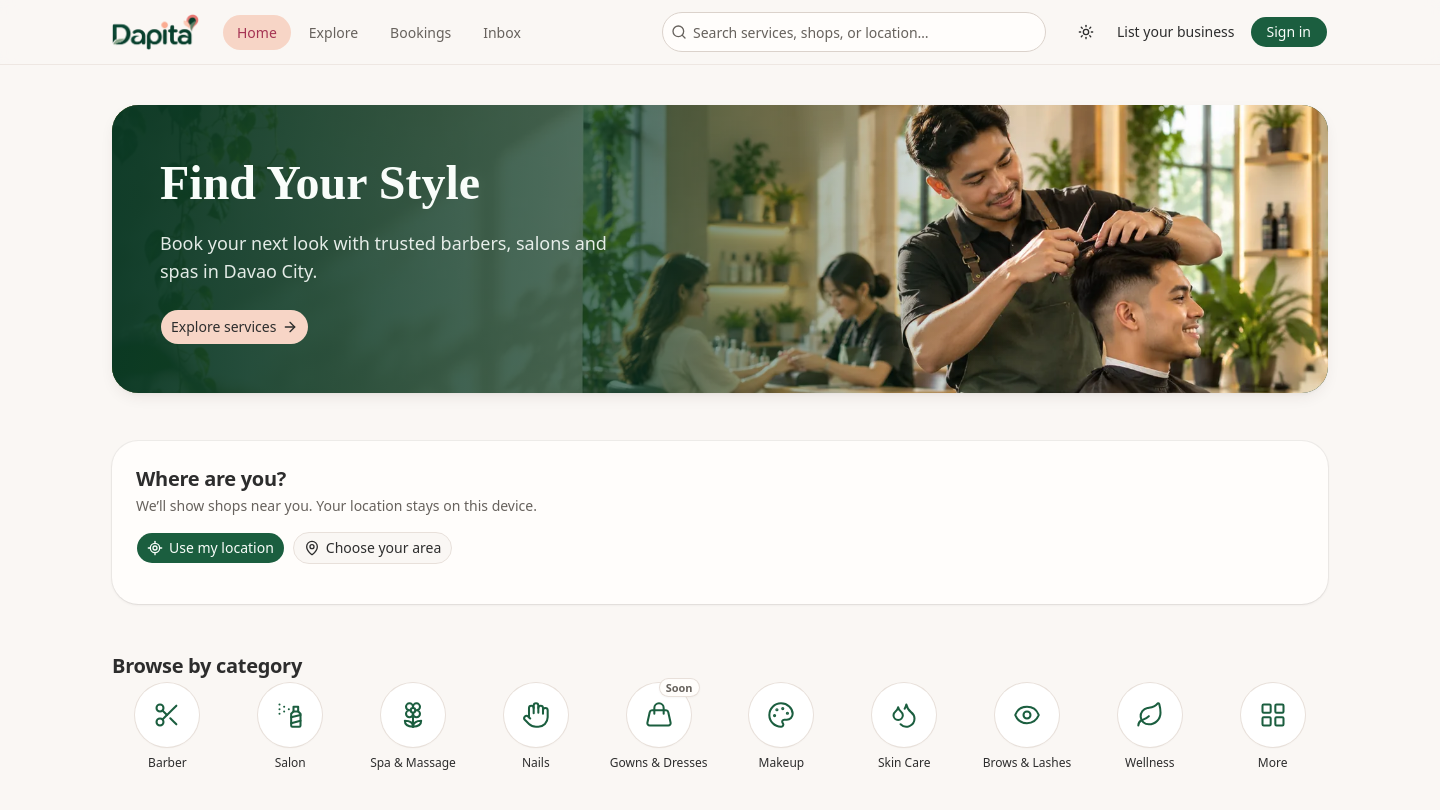
Test case: Home page, location first › Change brings the prompt back
The image size is (1440, 810).
Click the button "Choose your area". click: (373, 548)
box: [293,532,452,564]
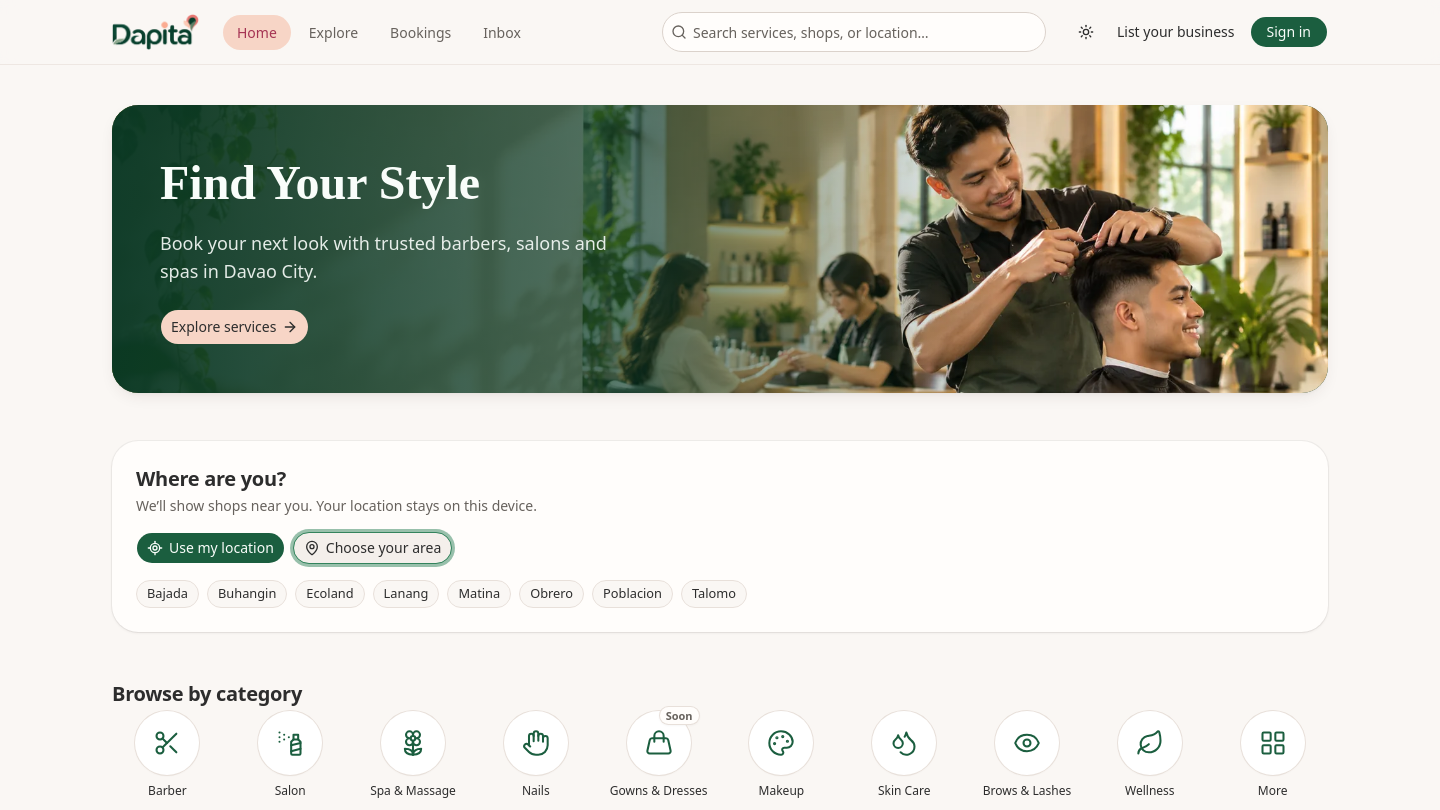
Click the button "Bajada". click: (168, 594)
box: [136,580,199,608]
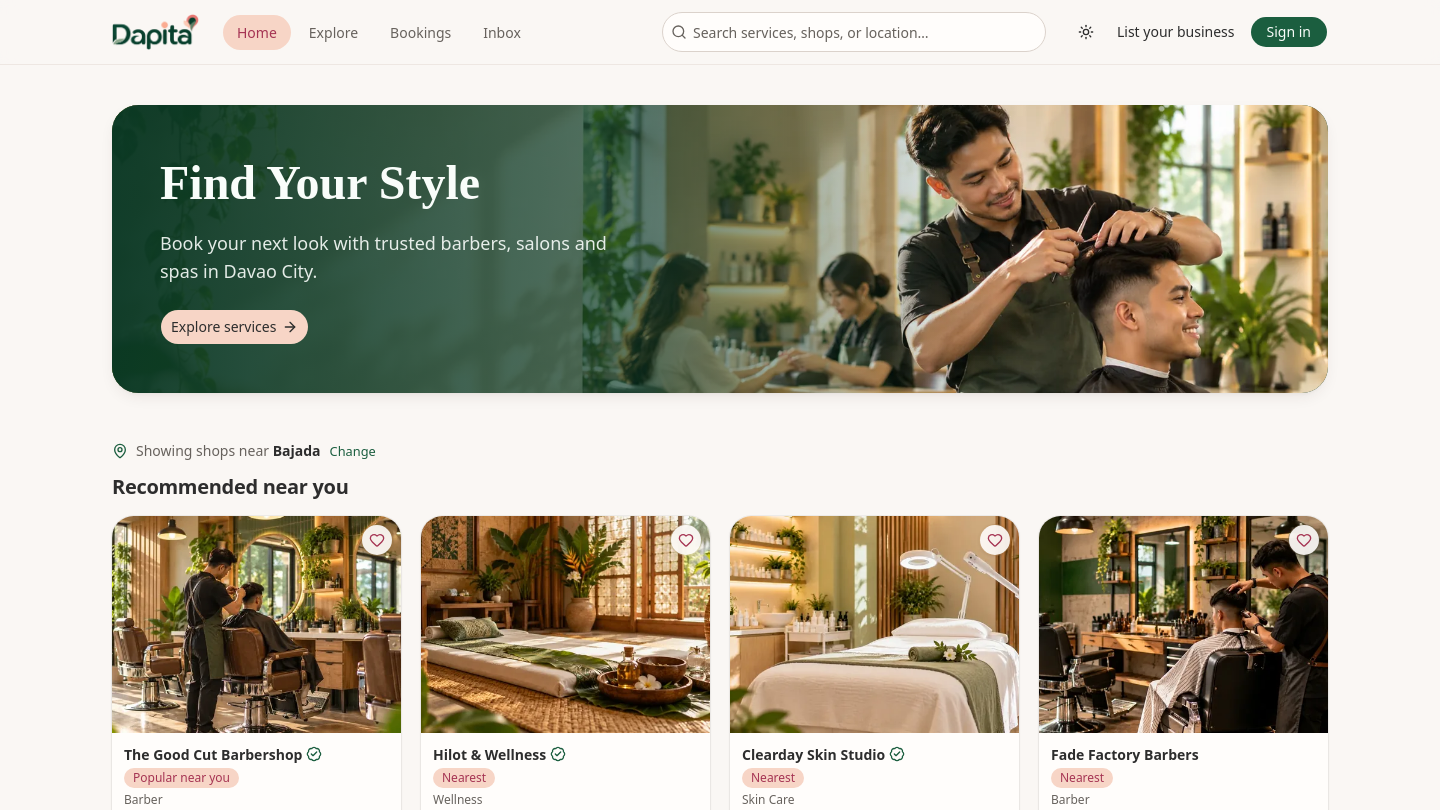
Click the button with aria-label "Change location". click: (353, 451)
box: [329,441,377,461]
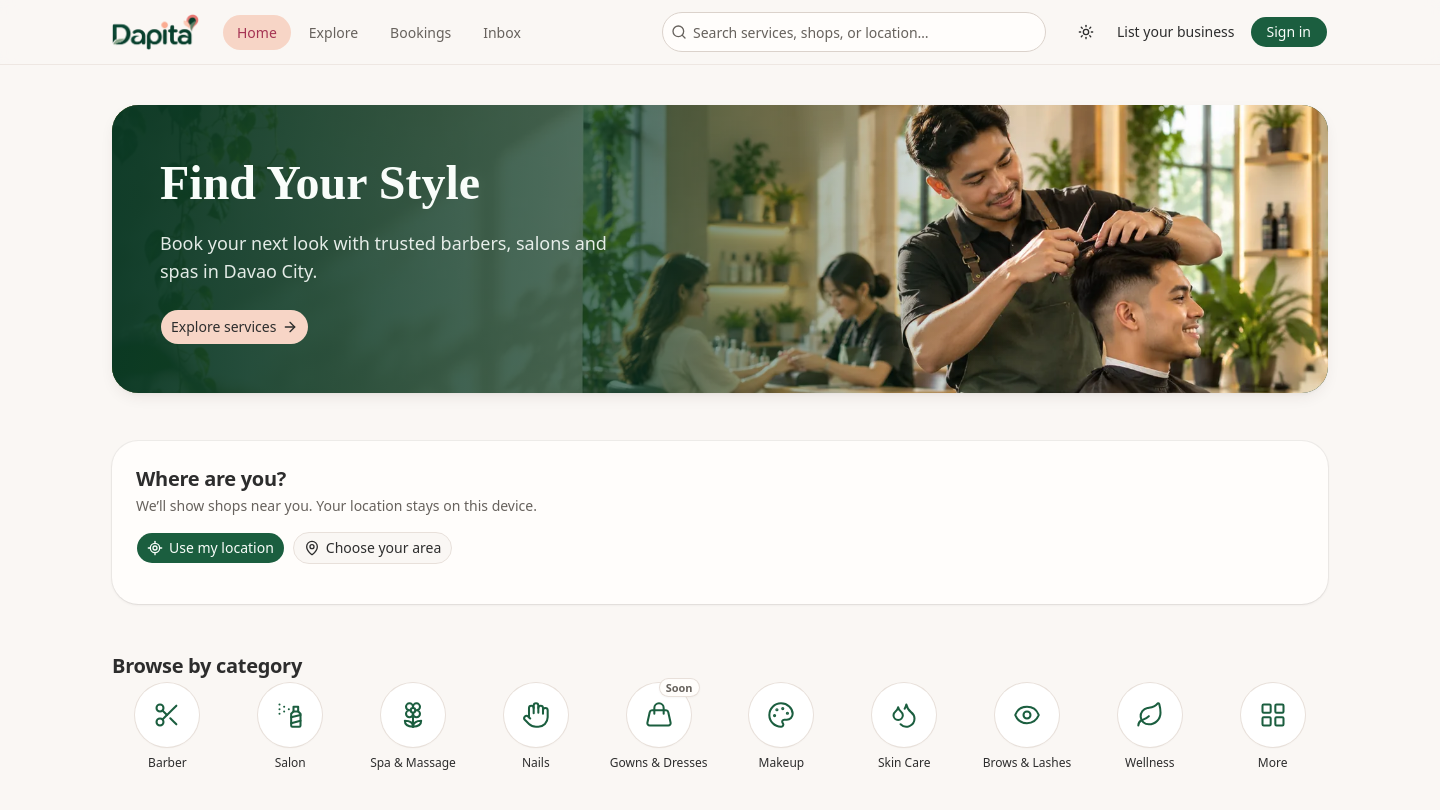
Check: the heading "Where are you?" is shown, box [136,465,286,492]
